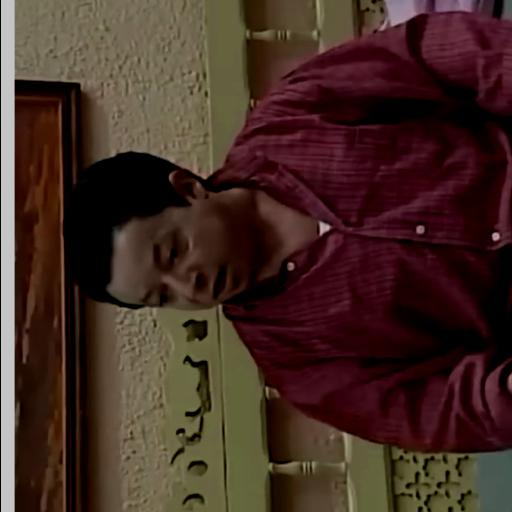fouchika: (66, 152, 267, 309)
